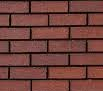brick: (9, 65, 47, 79), (47, 66, 87, 79), (31, 26, 70, 39), (30, 53, 69, 66), (10, 13, 48, 26), (49, 13, 87, 26), (9, 40, 48, 52), (48, 40, 87, 52), (30, 1, 69, 13), (70, 52, 103, 66), (31, 79, 69, 91), (70, 26, 103, 39), (1, 27, 30, 40), (1, 79, 32, 91), (70, 79, 103, 90), (70, 1, 102, 12), (1, 53, 30, 65), (1, 1, 29, 12), (87, 67, 103, 79)
